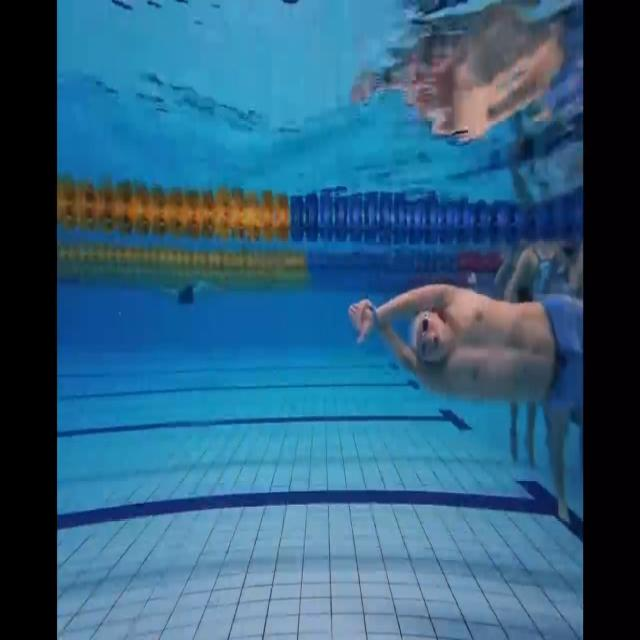Swimming: (346, 282, 584, 408)
